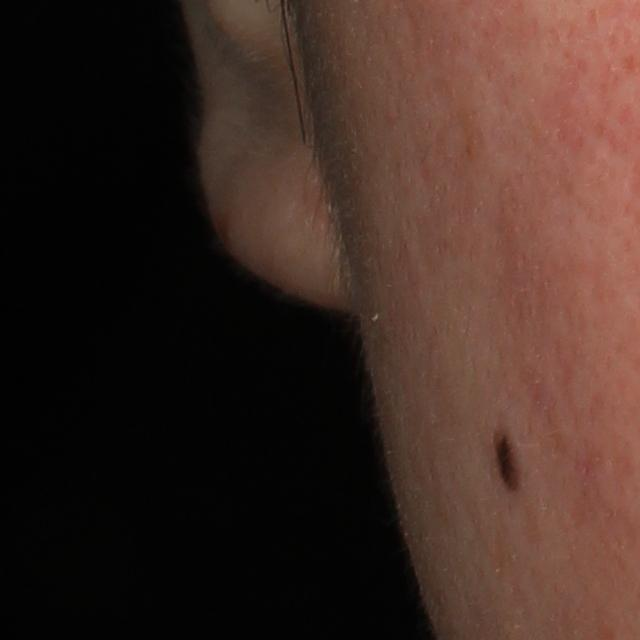nevus: (489, 426, 528, 495)
